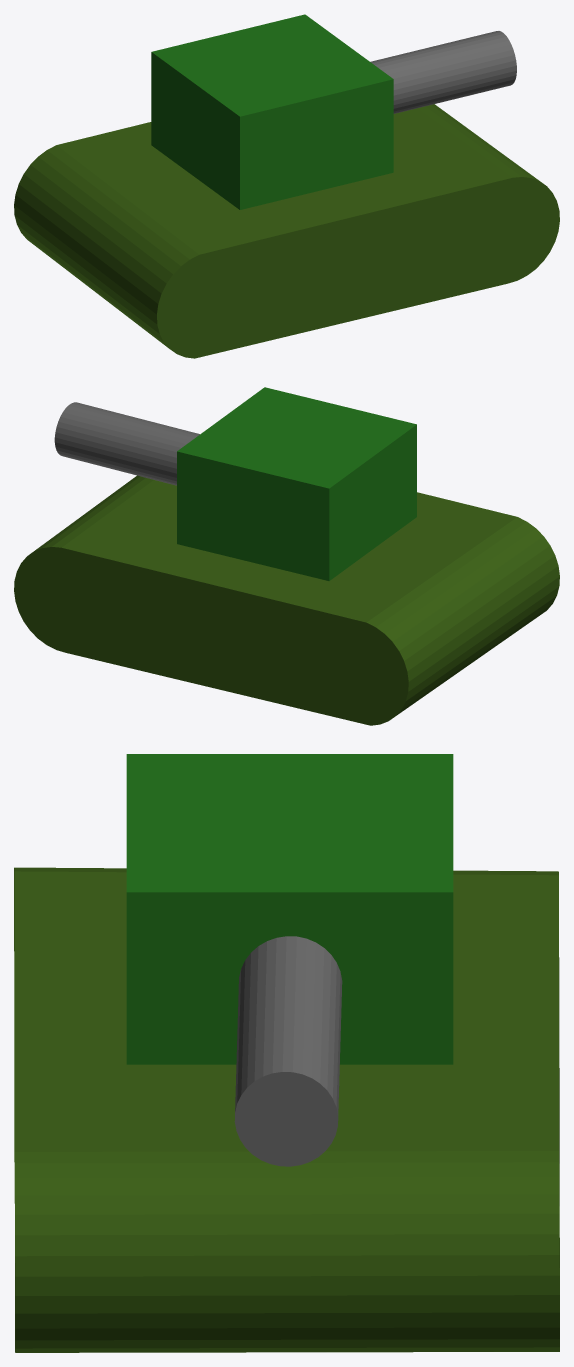
Rendered from realgreentank.fbx.
3 renders of one model, top to bottom at view 1: azimuth 30°, elevation 25°; view 2: azimuth 150°, elevation 25°; view 3: azimuth 270°, elevation 25°, orthographic. The views are drawn at different scales.
Parts seen in each view (by area): view 1: Cylinder.001; view 2: Cylinder.001; view 3: Cylinder.001.
Boxes of the visible parts, x1=… form: Cylinder.001: x1=14, y1=14, x2=559, y2=358; Cylinder.001: x1=14, y1=387, x2=559, y2=725; Cylinder.001: x1=14, y1=754, x2=559, y2=1352.
Size of the model in its own units: 841 by 386 by 511.
